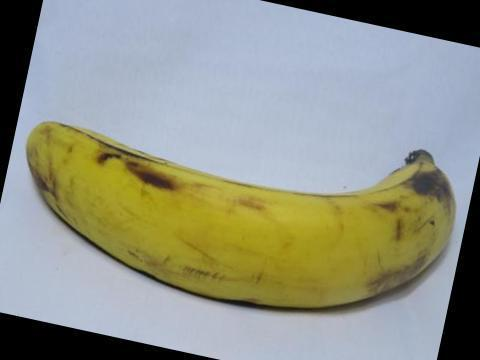ripe: (18, 106, 461, 322)
